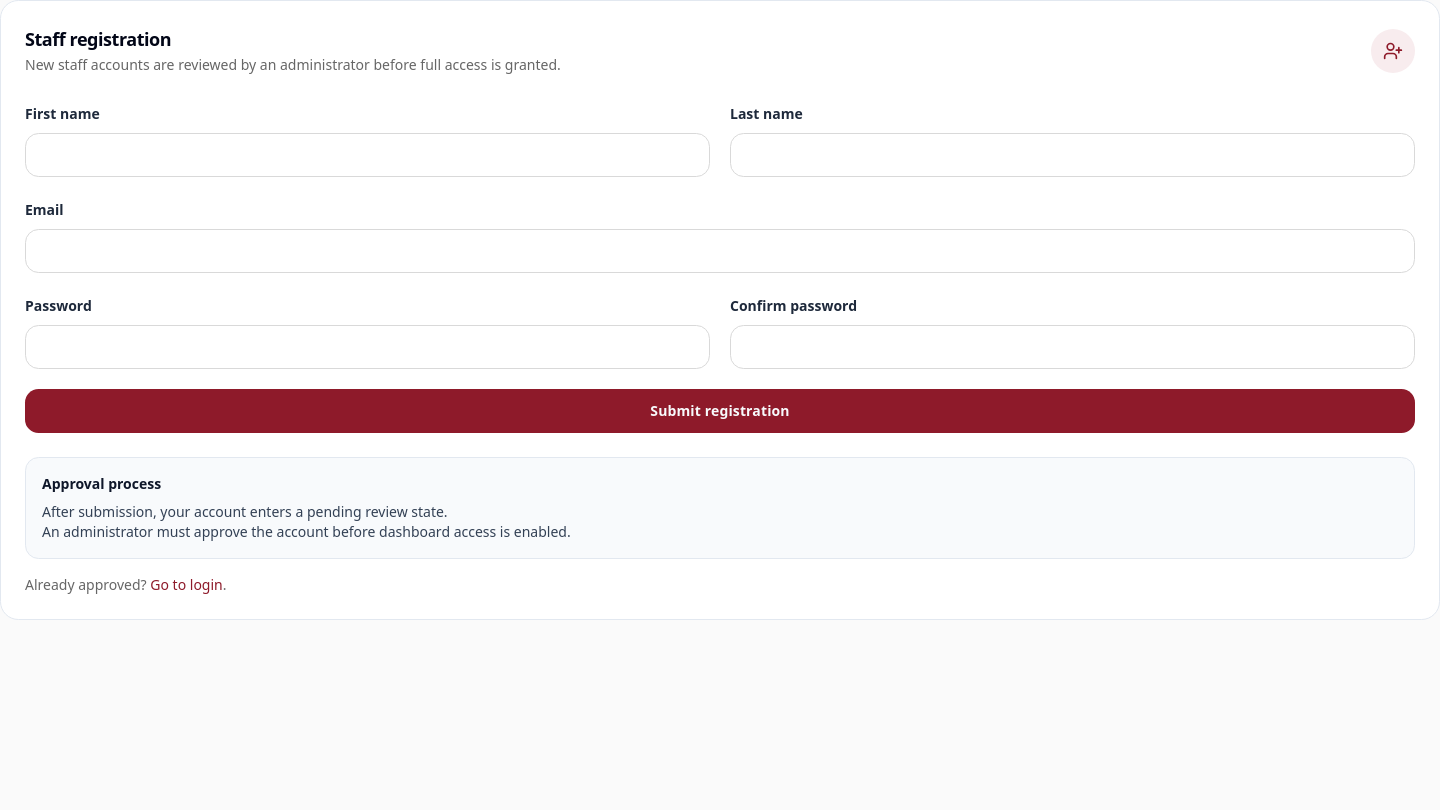
Test: RegisterForm › shows a fallback error when the registration request fails before a response is returned
Step 1. Type "Elena" into the field labelled "First name" → (368, 155), box x1=25 y1=133 x2=710 y2=177
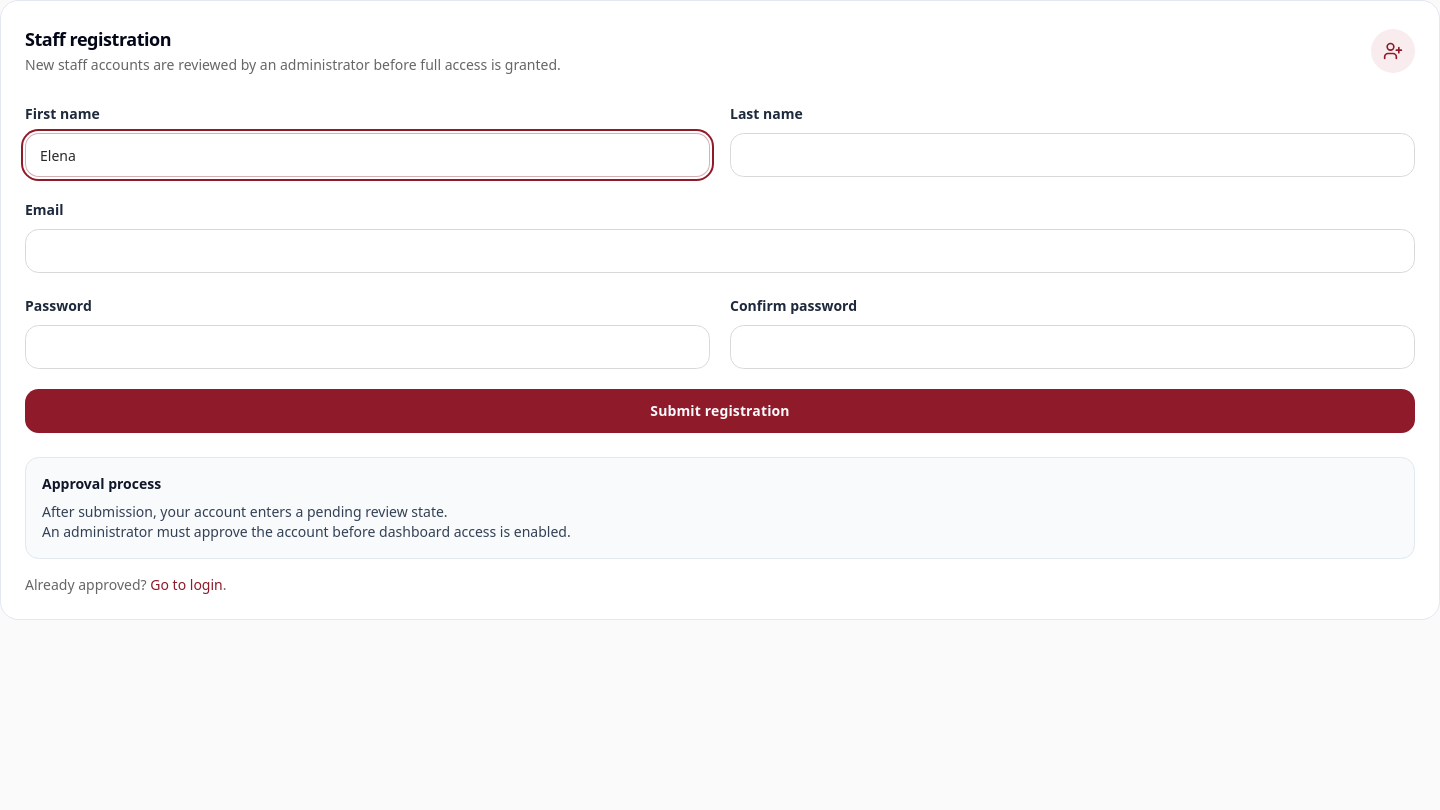
Step 2. Type "Petrova" into the field labelled "Last name" → (1072, 155), box x1=730 y1=133 x2=1415 y2=177
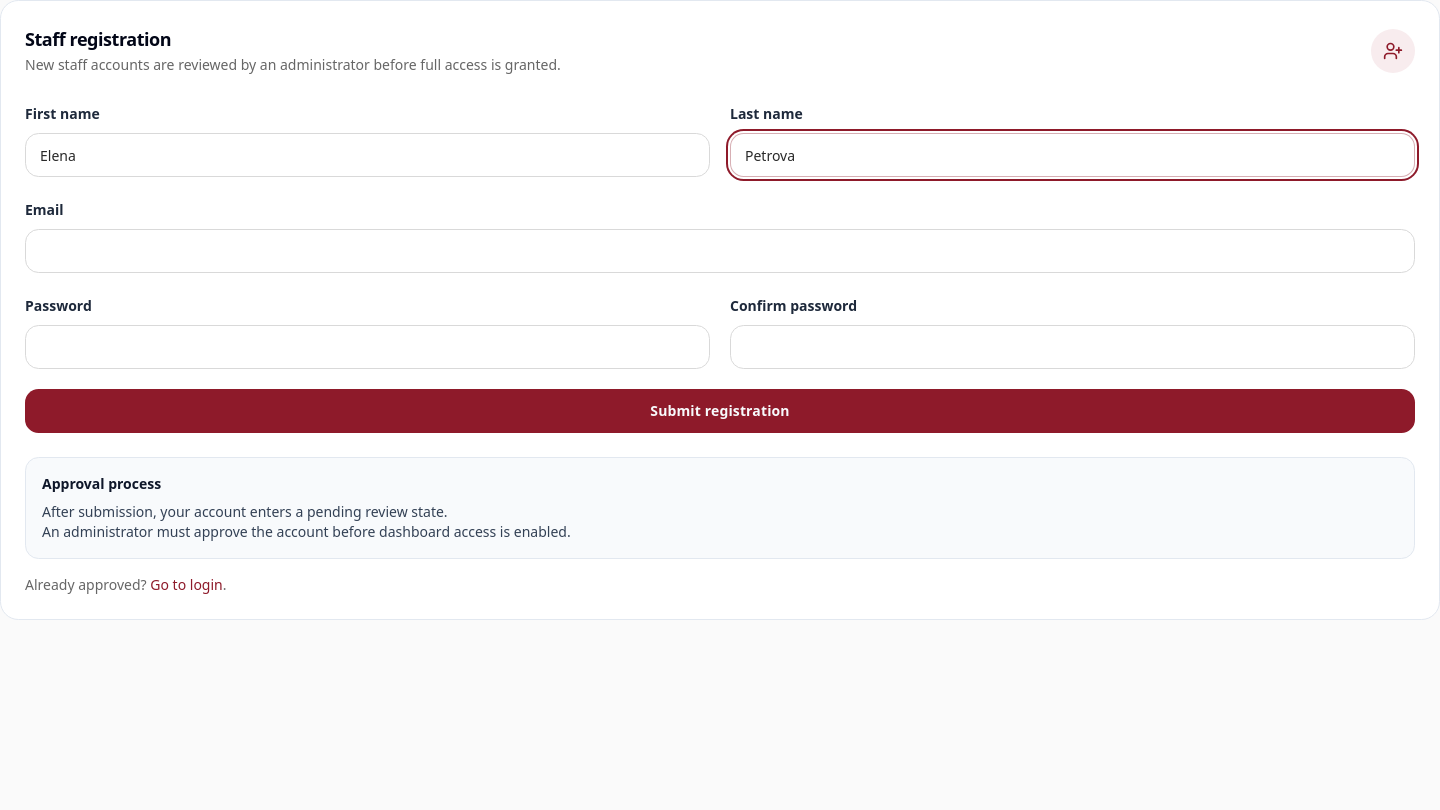
Step 3. Type "new.staff@swu.local" into the field labelled "Email" → (720, 251), box x1=25 y1=229 x2=1415 y2=273
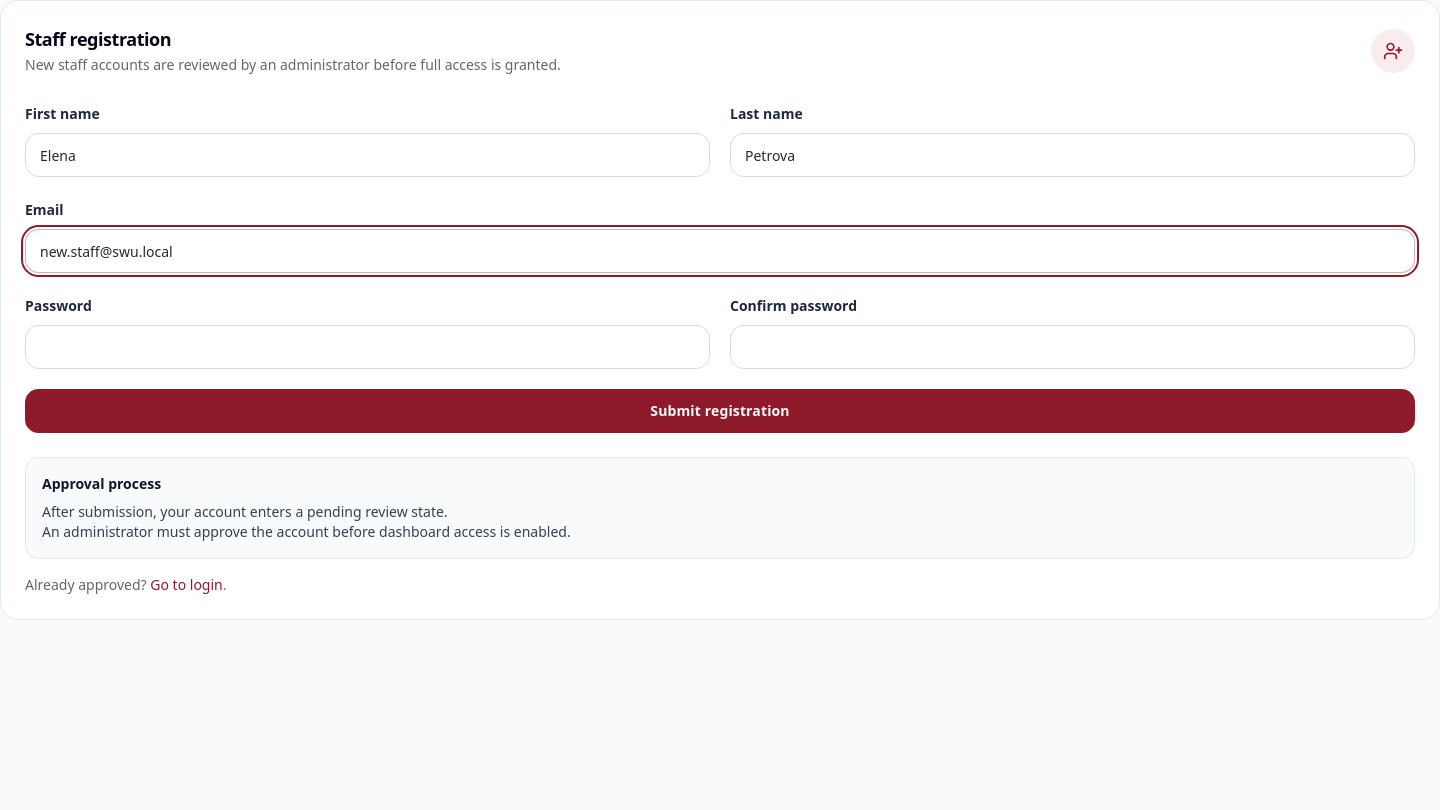
Step 4. Type "NewStaffPass123!" into the password field labelled "Password" → (368, 347), box x1=25 y1=325 x2=710 y2=369
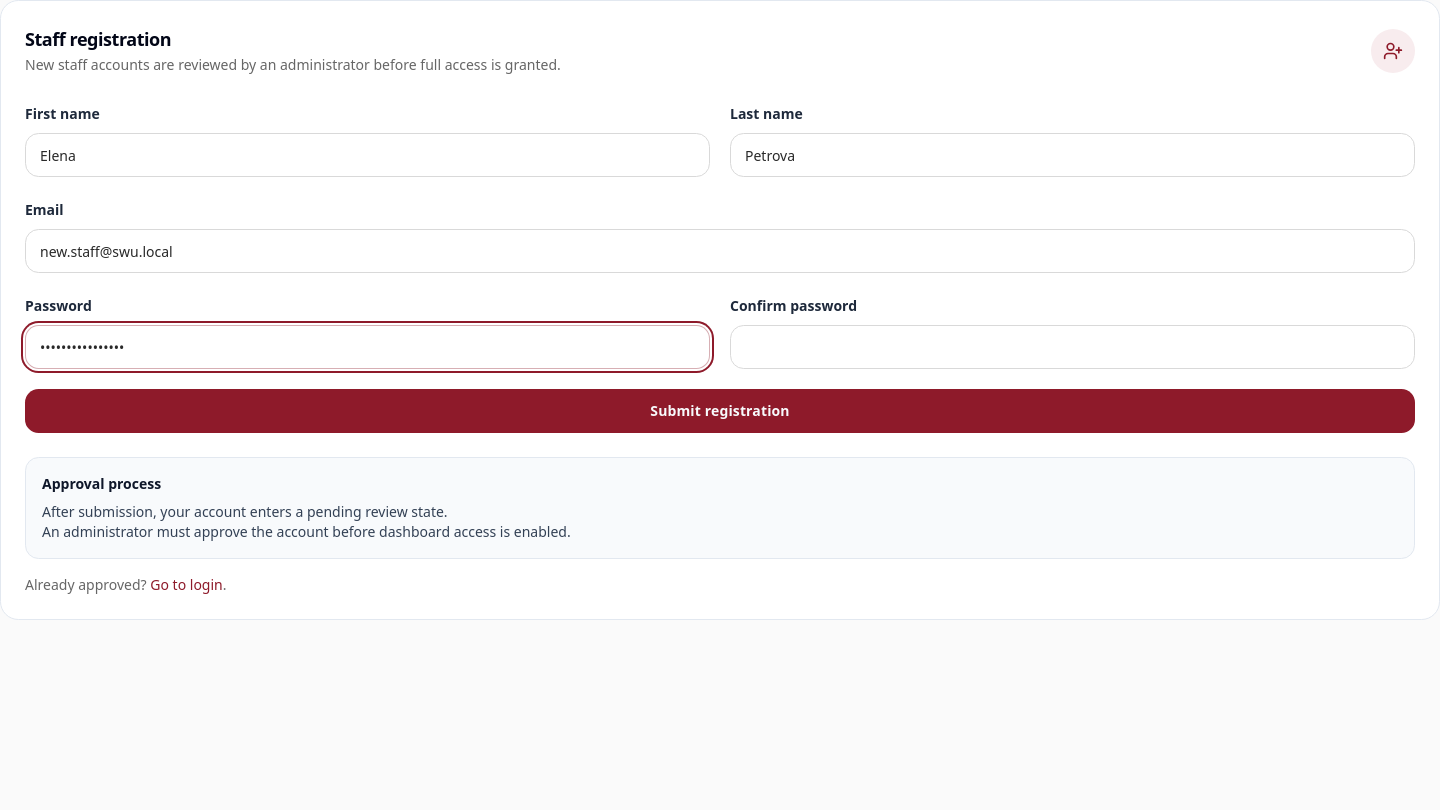
Step 5. Type "NewStaffPass123!" into the password field labelled "Confirm password" → (1072, 347), box x1=730 y1=325 x2=1415 y2=369
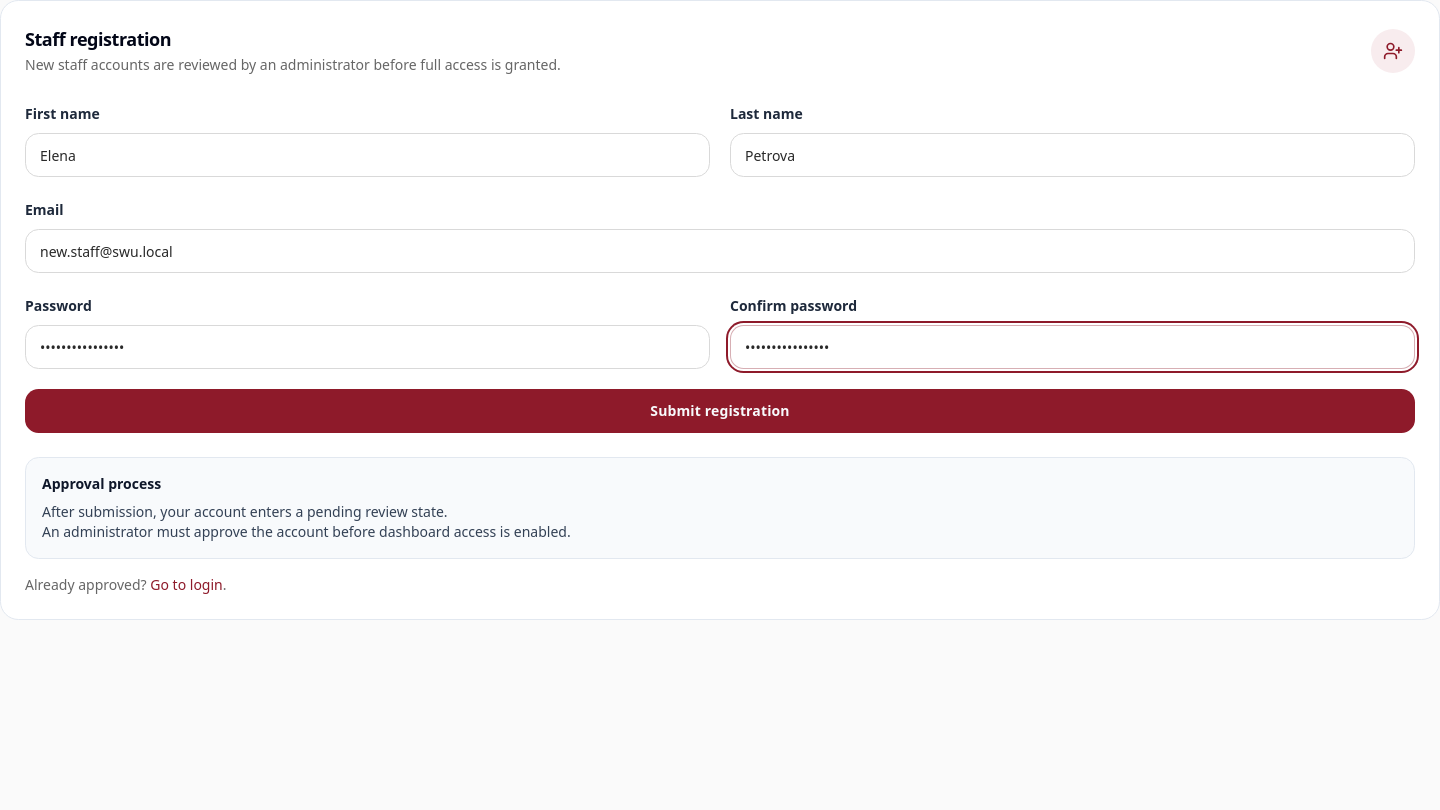
Step 6. Click the button "Submit registration" → click(720, 411), box x1=25 y1=389 x2=1415 y2=433
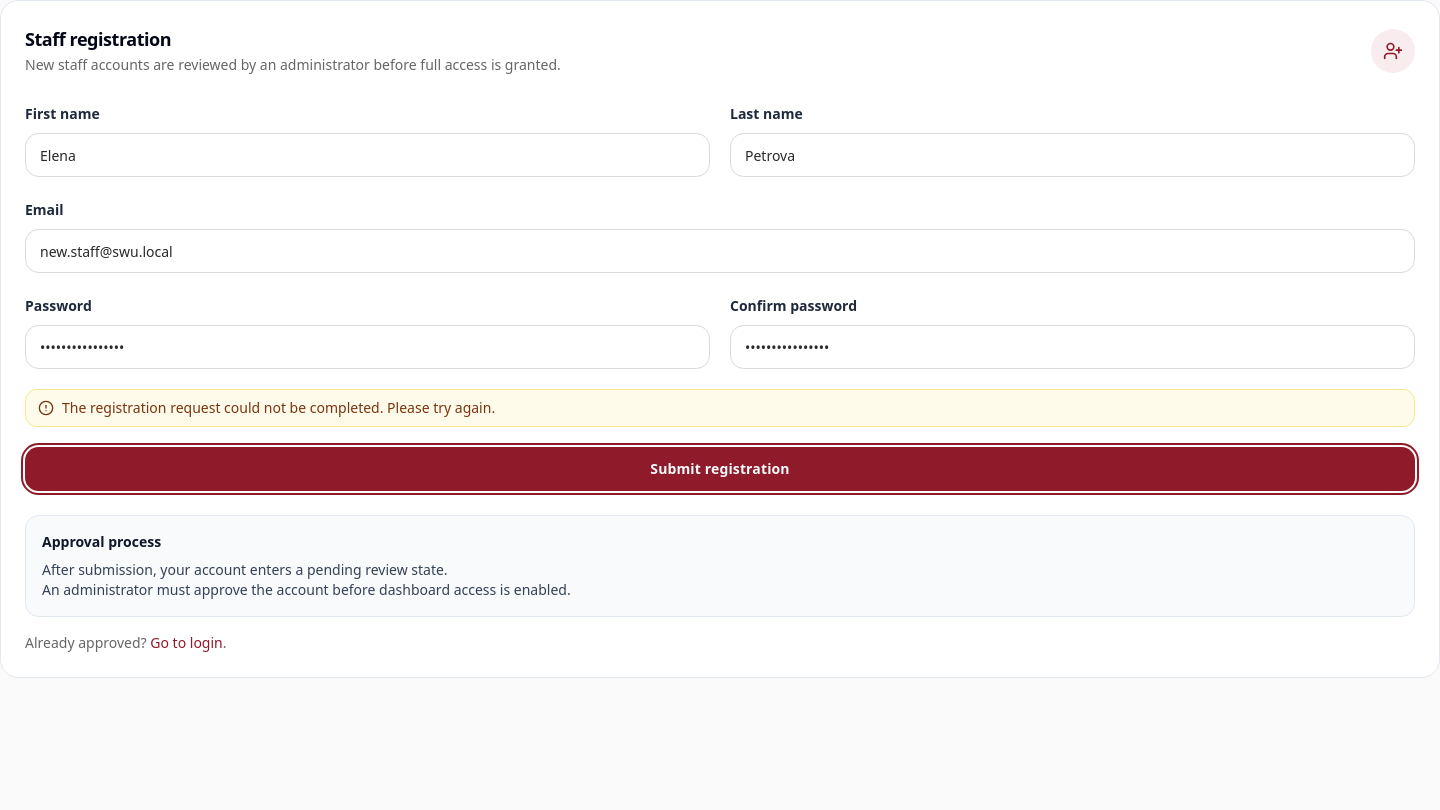
Result: the text "The registration request could not be completed." is shown at x1=62 y1=398 x2=495 y2=417
